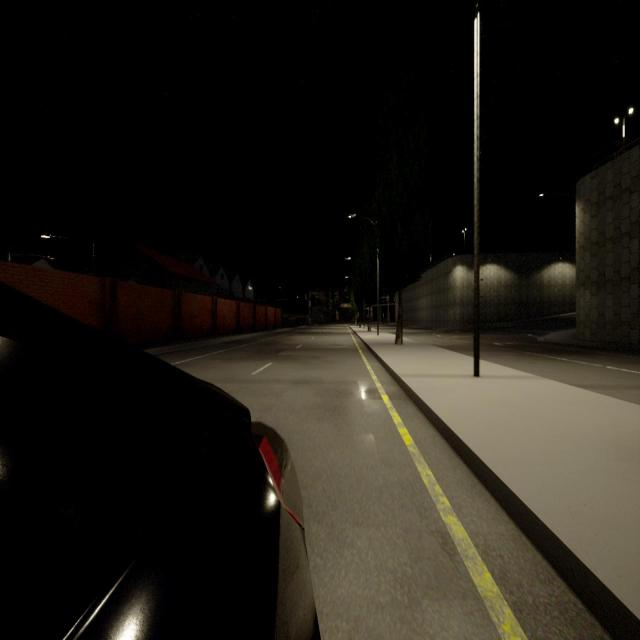Vehicle: (0, 291, 315, 638)
